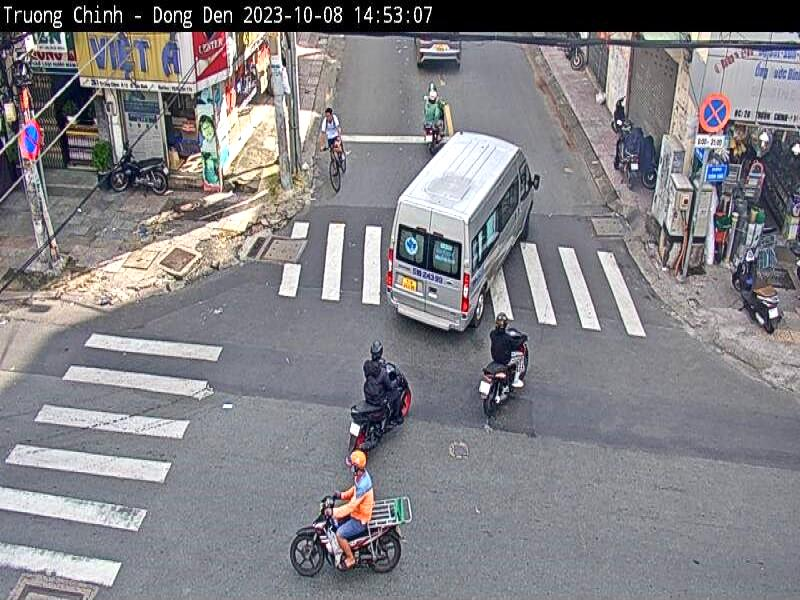car: (386, 126, 538, 333), (416, 30, 466, 74)
motorcycle: (271, 489, 421, 582), (317, 360, 429, 451), (440, 329, 551, 416), (722, 240, 792, 361), (108, 139, 174, 201)
